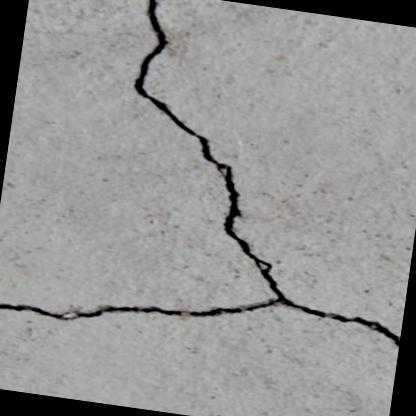crack: (0, 0, 400, 350)
